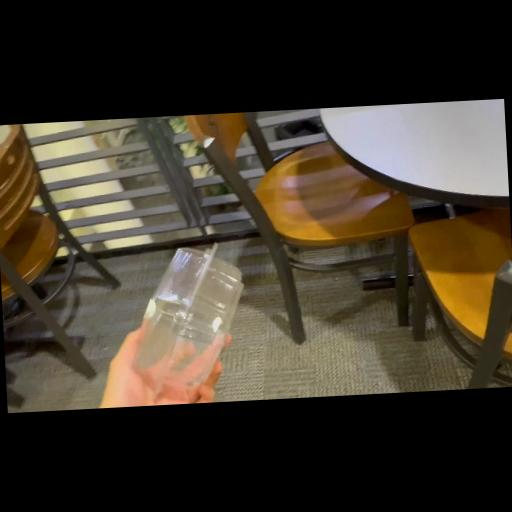small_plastic_container: (124, 238, 250, 406)
